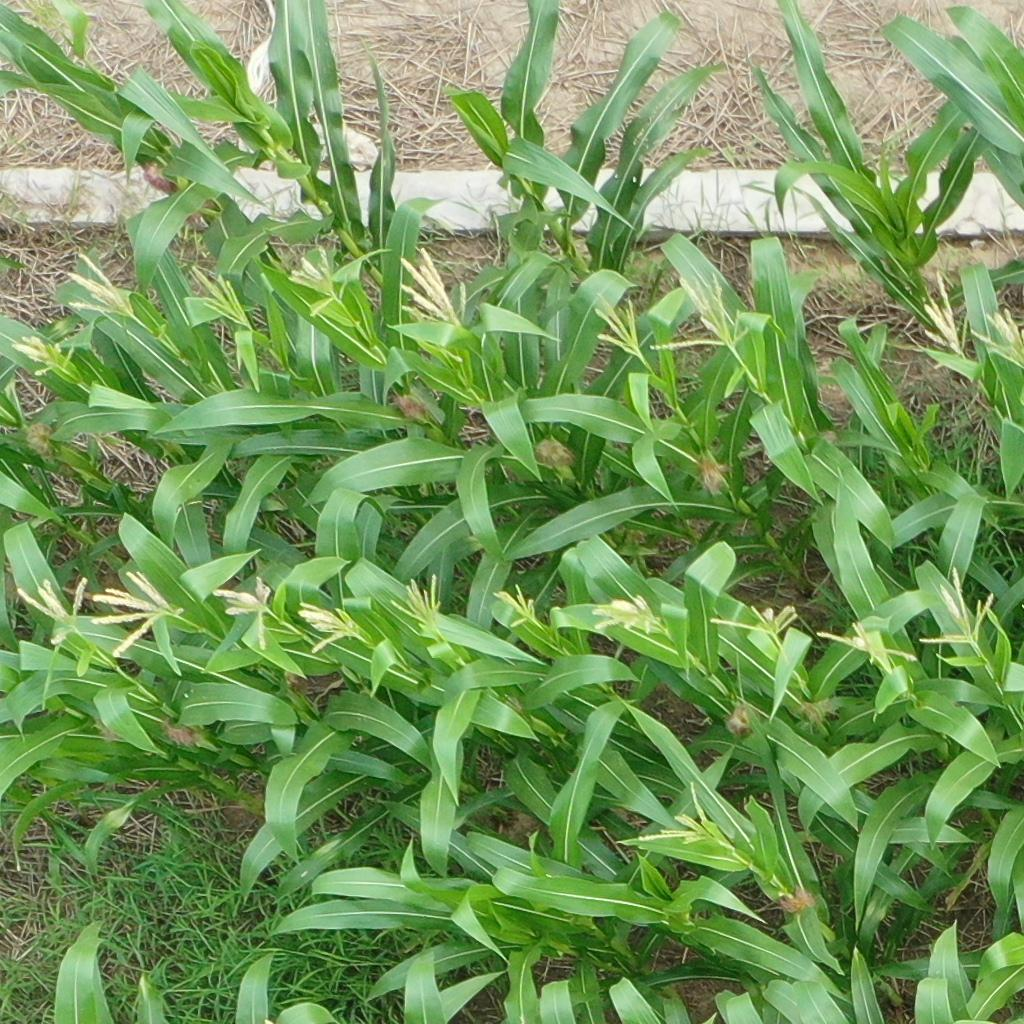Tassel: (646, 270, 753, 355), (630, 779, 736, 856), (92, 569, 180, 659), (208, 572, 288, 654), (918, 566, 1000, 645), (395, 247, 473, 327), (815, 618, 920, 672), (185, 264, 266, 332), (15, 573, 91, 644), (918, 269, 971, 368), (63, 251, 137, 321), (294, 600, 372, 660), (284, 246, 347, 314), (590, 292, 648, 363), (587, 592, 670, 638), (390, 574, 449, 637), (8, 329, 76, 383), (705, 601, 801, 638), (971, 306, 1024, 373), (491, 581, 537, 634), (18, 1, 65, 31)
